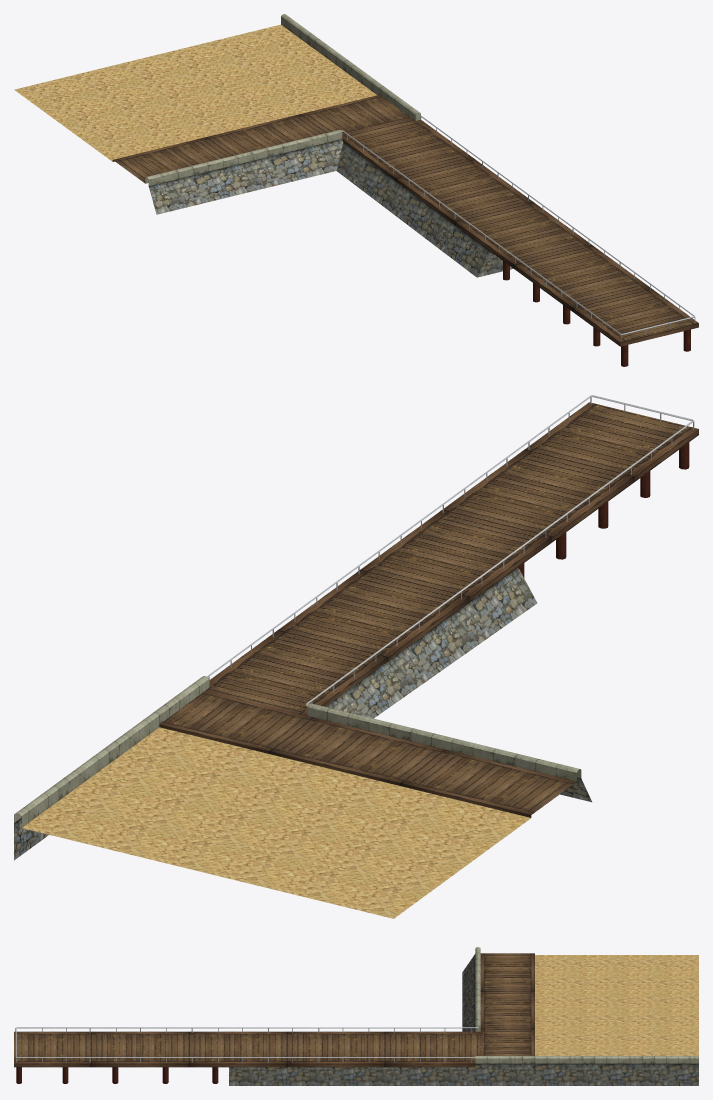
File: Dock_Bridge_R_NoSand.FBX
3 renders of one model, top to bottom at view 1: azimuth 30°, elevation 25°; view 2: azimuth 150°, elevation 25°; view 3: azimuth 270°, elevation 25°, orthographic. The views are drawn at different scales.
Parts seen in each view (by area): view 1: Dock_Bridge_R_NoSand; view 2: Dock_Bridge_R_NoSand; view 3: Dock_Bridge_R_NoSand.
Boxes of the visible parts, <box> form: Dock_Bridge_R_NoSand: <box>14,14,698,366</box>; Dock_Bridge_R_NoSand: <box>14,395,698,918</box>; Dock_Bridge_R_NoSand: <box>14,947,698,1085</box>.
Bounding box in the file's own units: 29.47 × 77.33 × 3.6.
